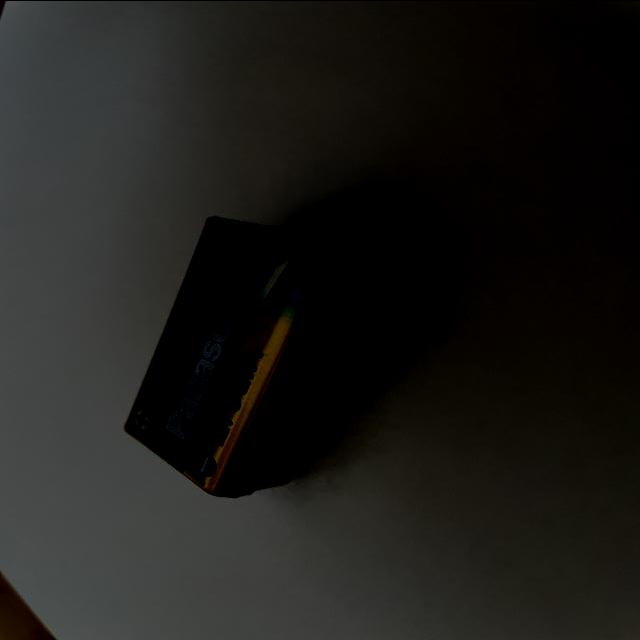9V: (121, 214, 399, 498)
